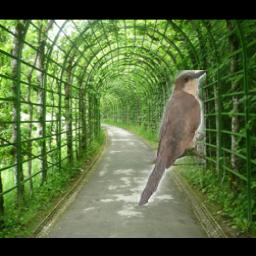Cuckoo: (139, 71, 207, 207)
